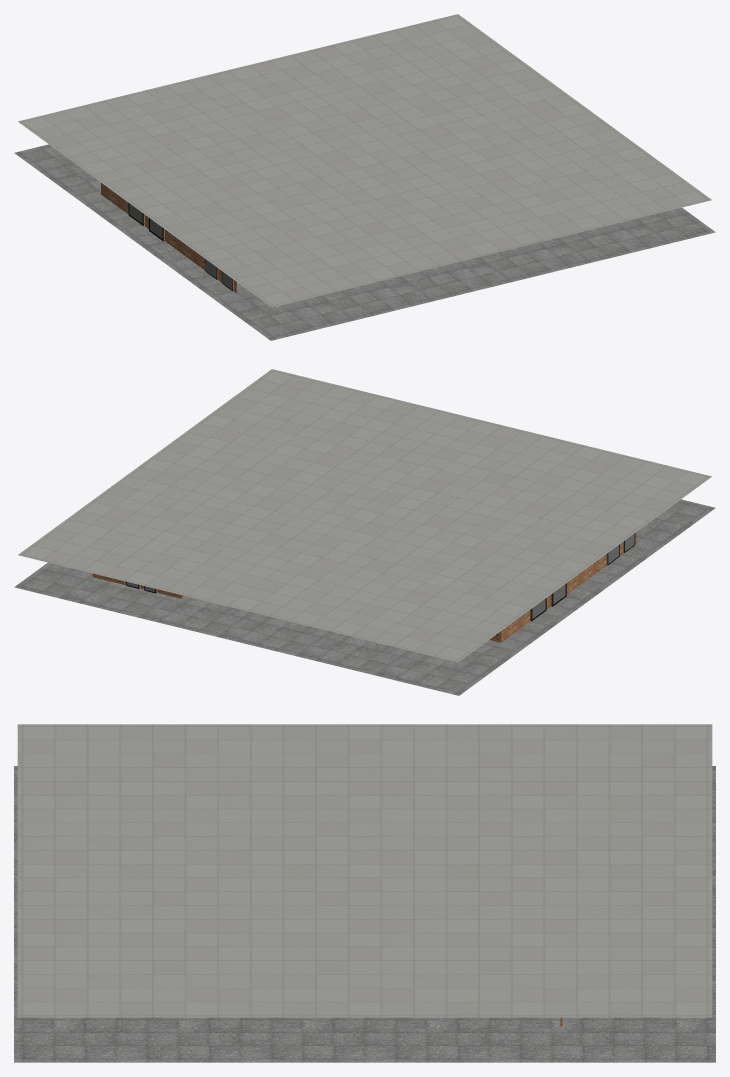
Rendered from pasilloA5.fbx.
The picture shows the model from 3 angles, top to bottom: view 1: azimuth 30°, elevation 25°; view 2: azimuth 150°, elevation 25°; view 3: azimuth 270°, elevation 25°; orthographic projection. The views are drawn at different scales.
Parts seen in each view (by area): view 1: Plane, Plane.001, Plane.002; view 2: Plane, Plane.001, Plane.002; view 3: Plane, Plane.001.
Boxes of the visible parts, <box> form: Plane: <box>18,14,711,307</box>; Plane.001: <box>14,144,715,340</box>; Plane.002: <box>101,183,236,293</box>; Plane: <box>18,369,711,662</box>; Plane.001: <box>14,499,715,695</box>; Plane.002: <box>501,532,636,642</box>; Plane: <box>17,724,712,1017</box>; Plane.001: <box>14,766,715,1062</box>.
Bounding box in the file's own units: 5956 × 406 × 5956.
Materials: 6 (4 with a texture image).
